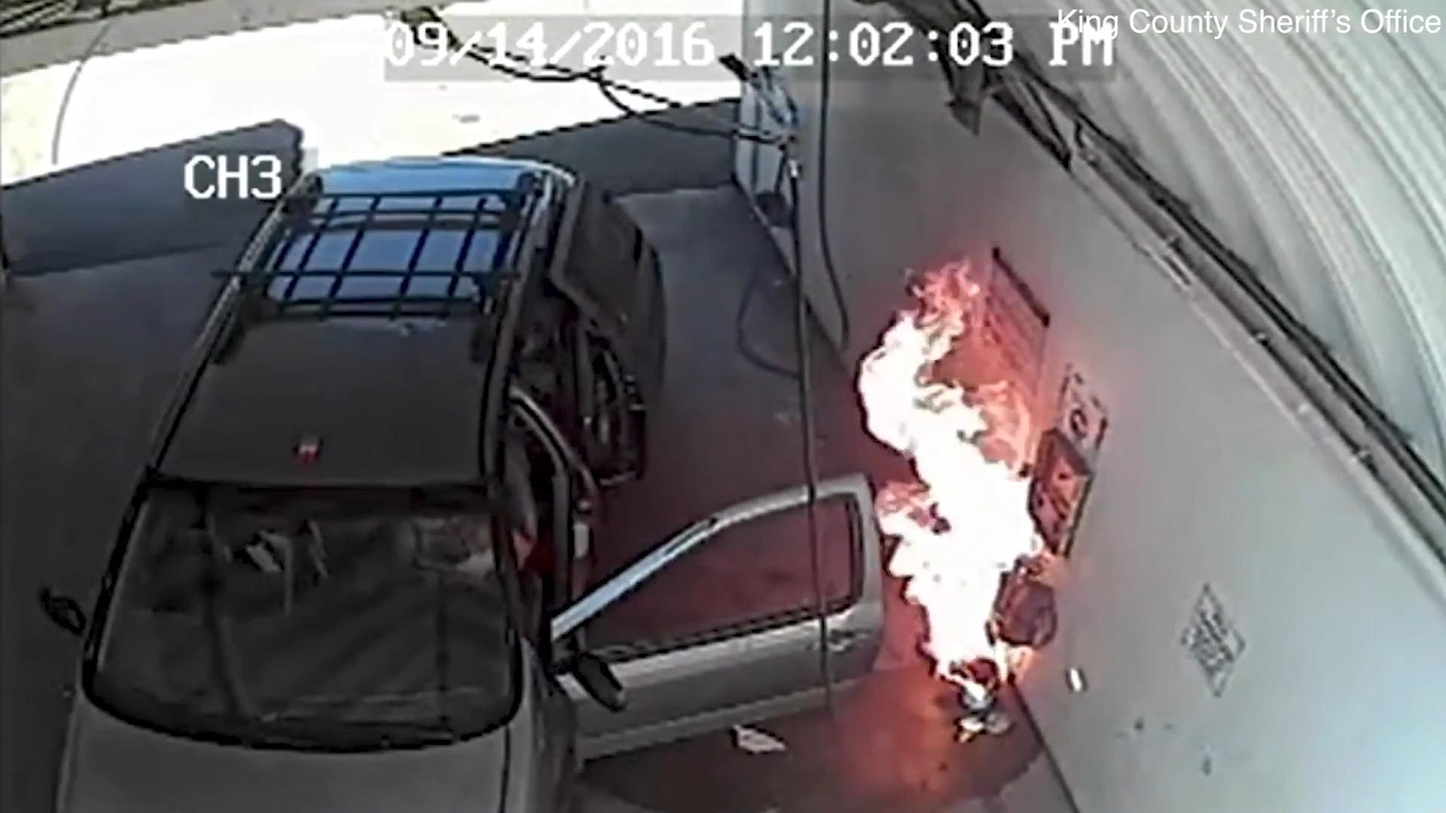fire: (856, 259, 1039, 684)
